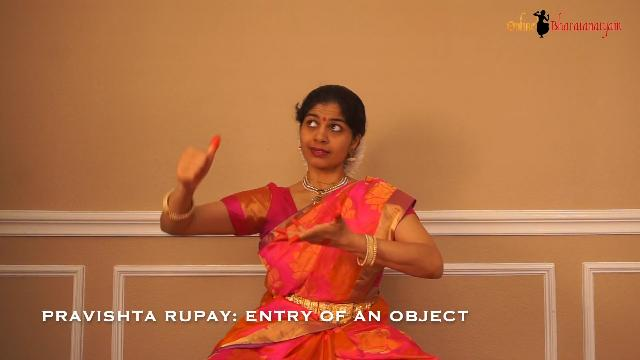shikhar: (143, 118, 245, 210)
